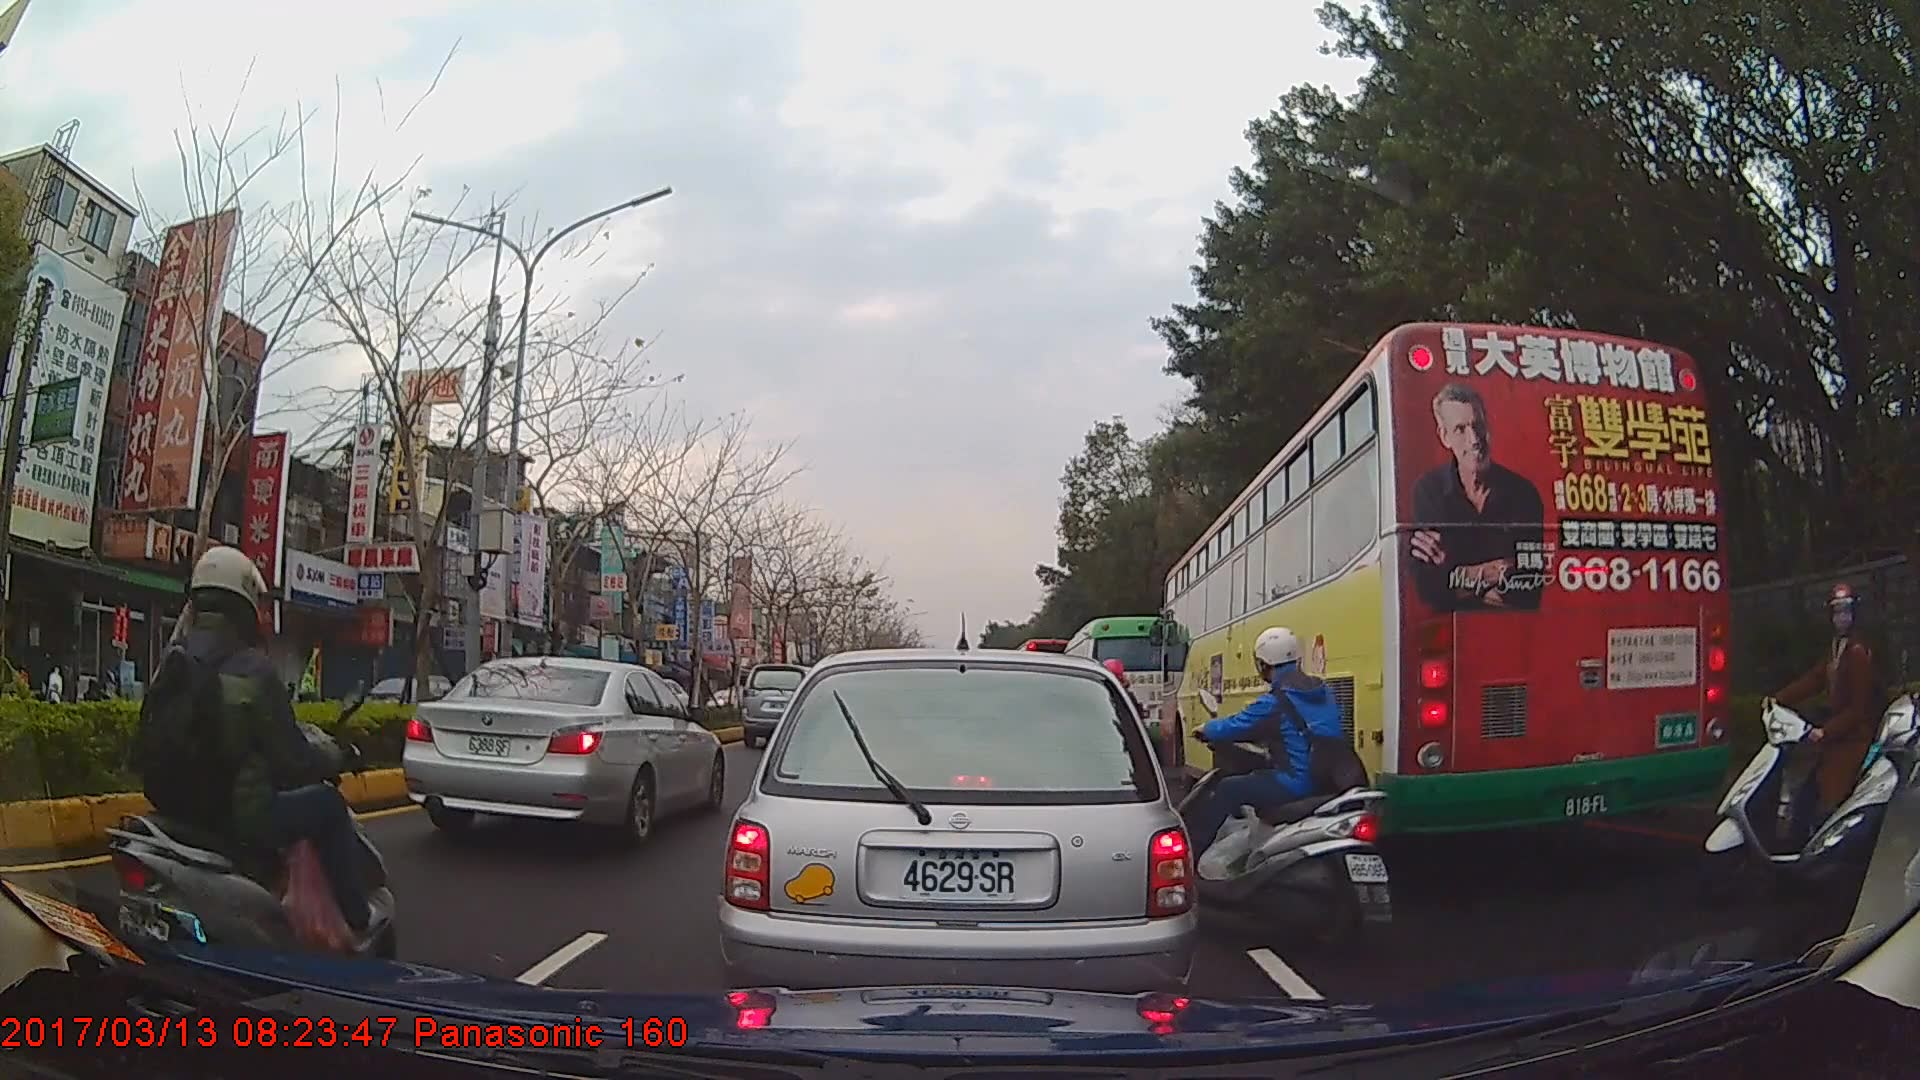rider: (106, 545, 388, 1004), (1168, 629, 1394, 957), (1700, 574, 1905, 896), (1778, 540, 1920, 994)
vehicle: (1160, 319, 1727, 852), (716, 646, 1196, 1030), (405, 652, 725, 848), (1059, 616, 1188, 761), (355, 669, 467, 734), (741, 663, 817, 747)
